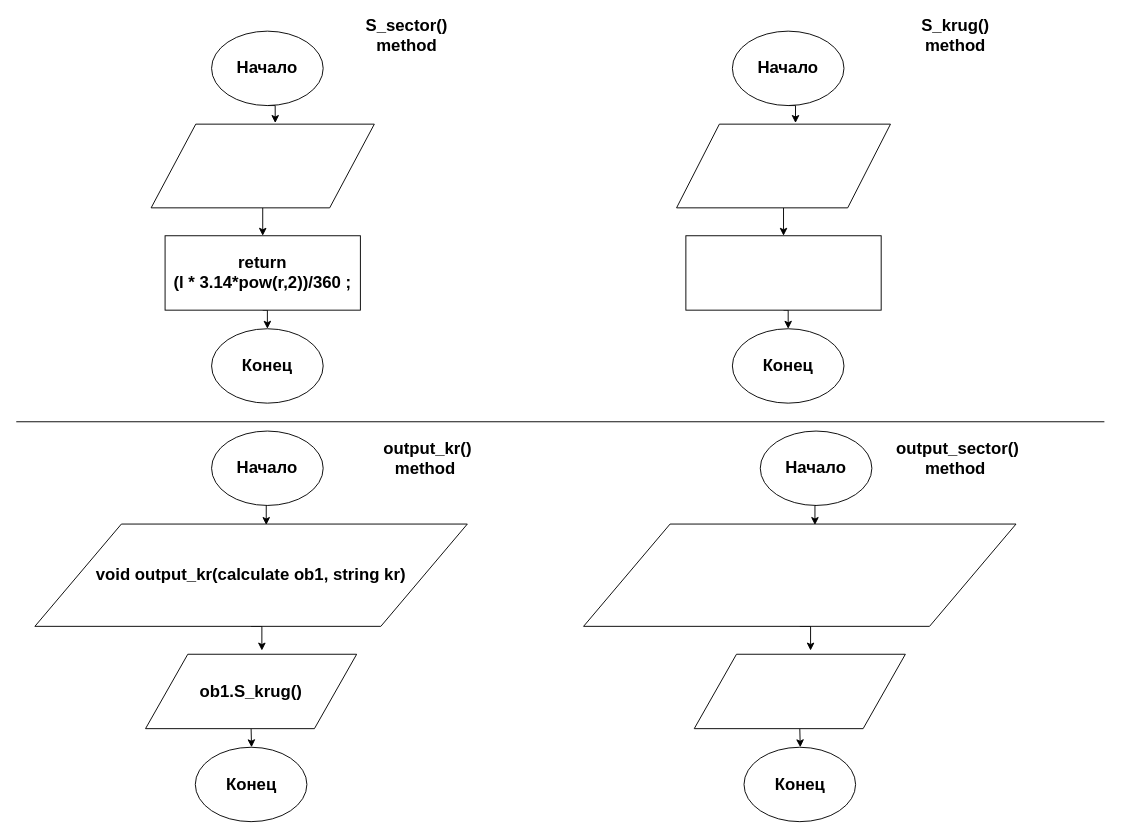
The diagram is 1122 pixels wide and 838 high, and some of its shapes have lost their labels. Each missing label, with the box of its shape:
double calculate::S_krug(): (676, 123, 890, 208)
double calculate::S_sector(): (150, 123, 374, 208)
ob2.S_sector(): (693, 653, 905, 729)
output_sector(calculate ob2, string sec): (583, 523, 1016, 626)
return 3.14*pow(r,2);: (685, 235, 881, 310)
